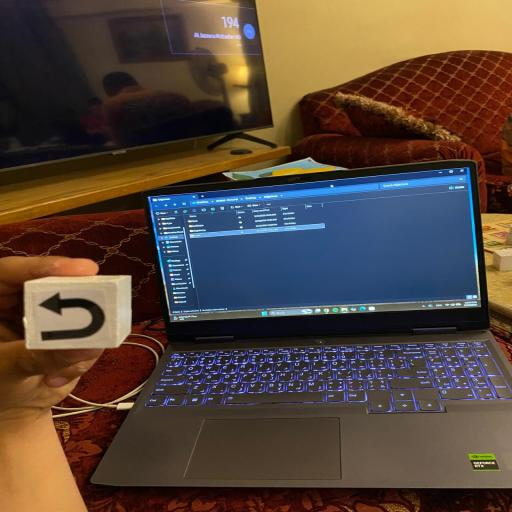Undo: (19, 274, 134, 352)
